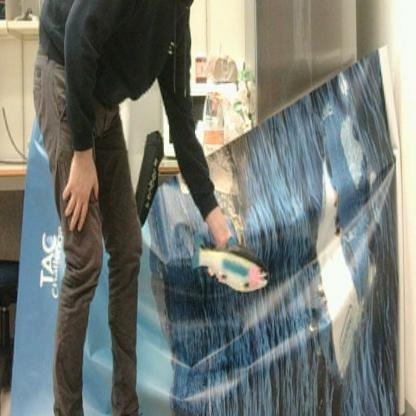rubberfish: (190, 231, 274, 296)
